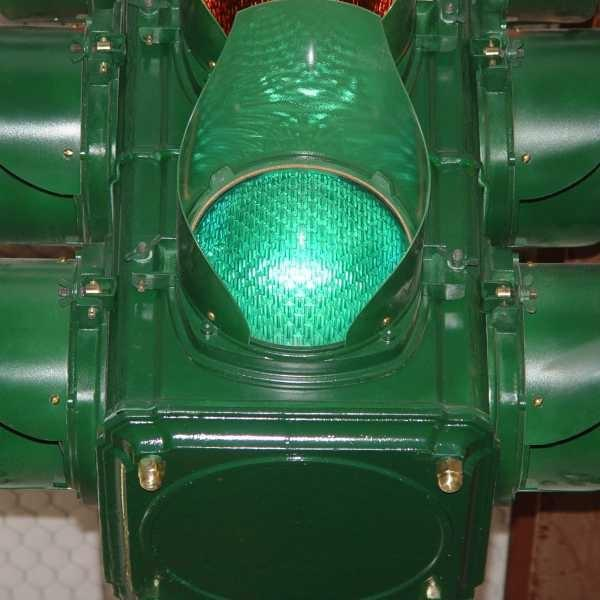red: (178, 107, 443, 395)
